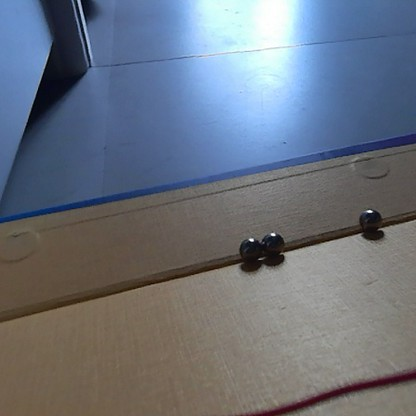ironball: (257, 228, 289, 263), (235, 234, 265, 264), (356, 206, 385, 236)
